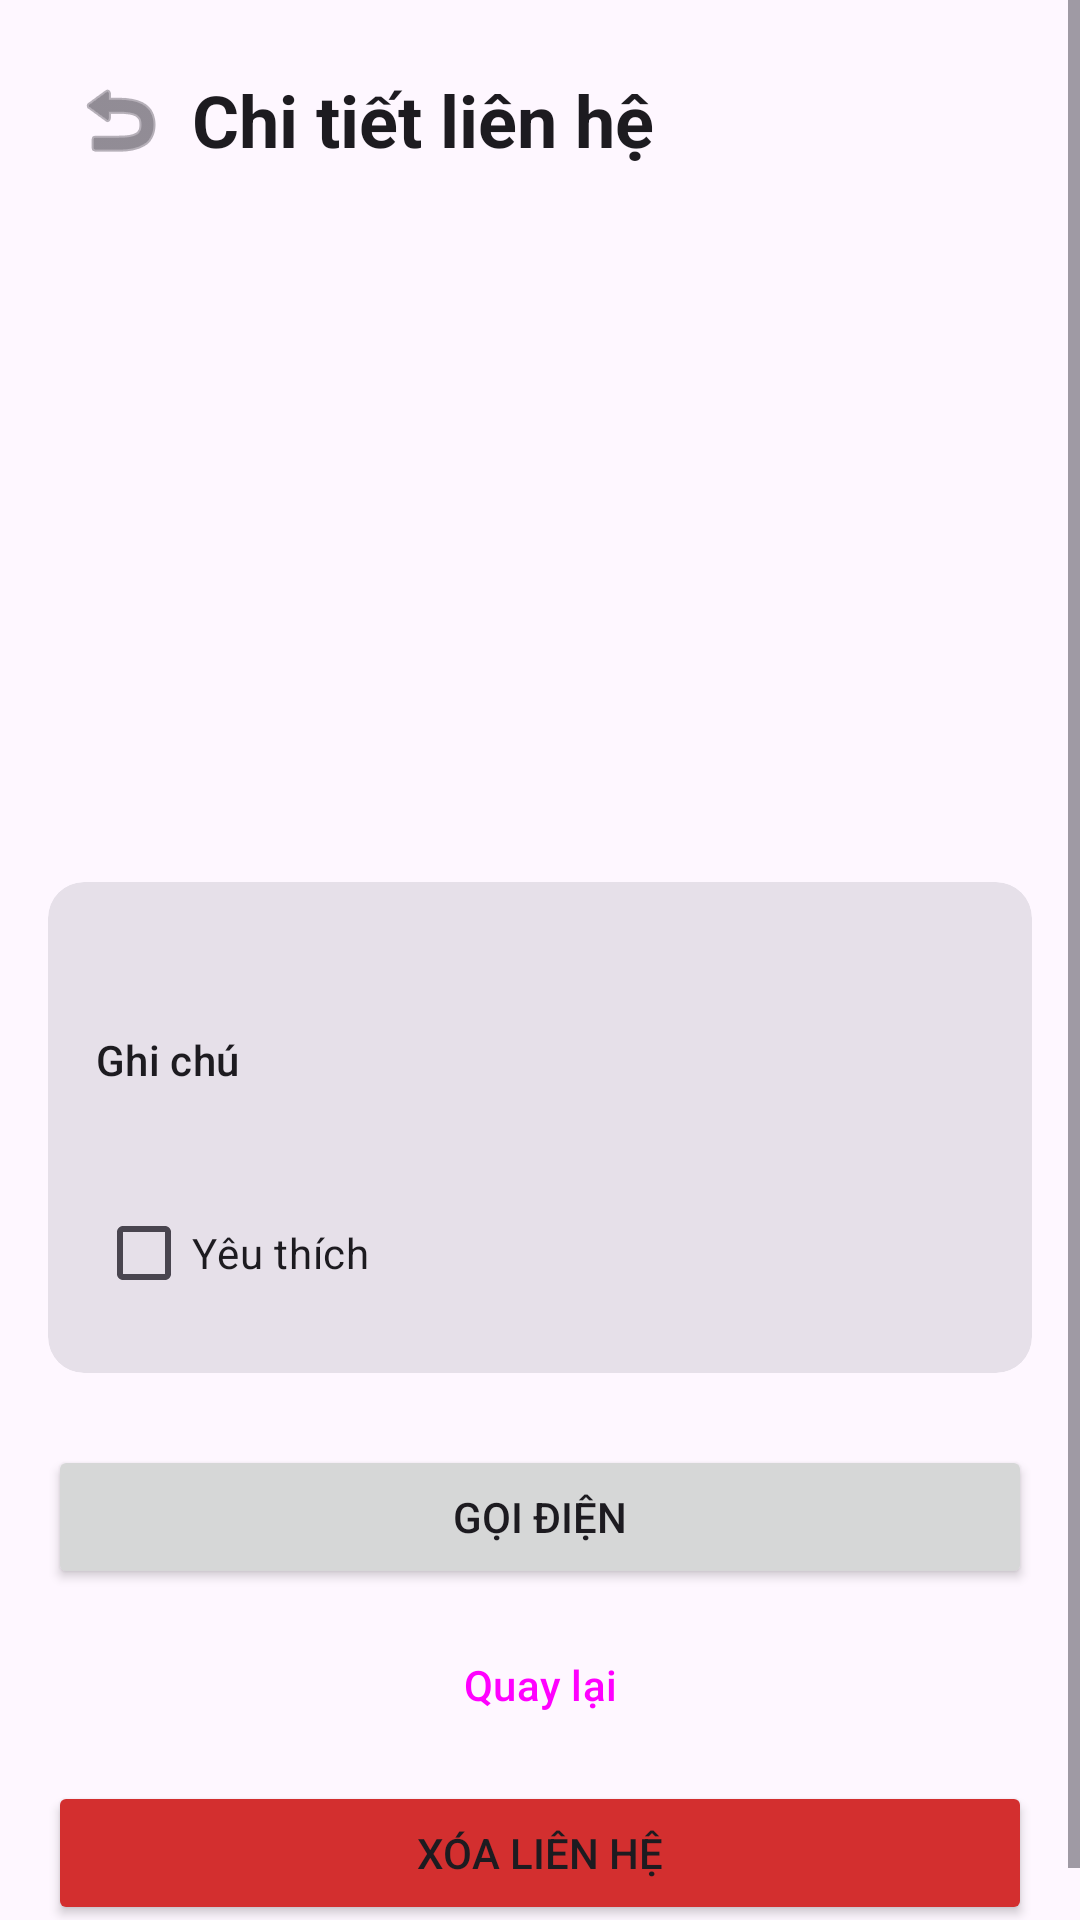

Icon click points for this 1080px×1920px phone screenshot, format [x,y]:
Quay lại: [121,120]
